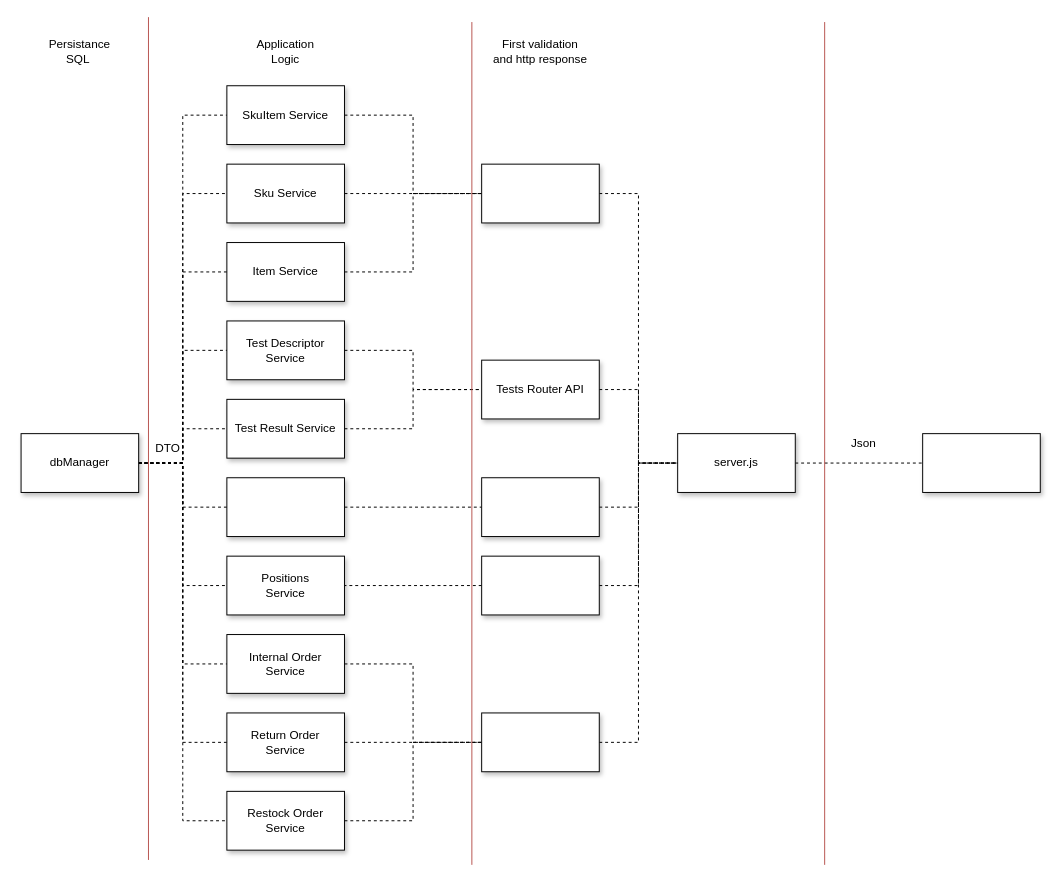
The diagram is 1063 pixels wide and 883 high, and some of its shapes have lost their labels. The shapes that lost their labels are listed below. From the top down, each one's centre as x and y in pixels, then its label:
point 541,194: Items Router API
point 982,464: client.js
point 286,508: User Service
point 541,508: Users Router API
point 541,586: Positions Router API
point 541,743: Orders Router API
